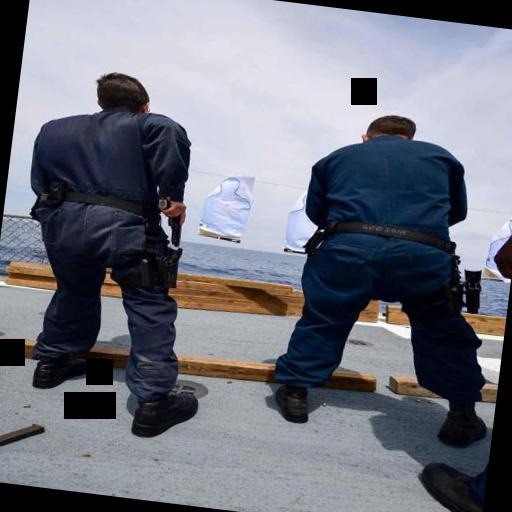Handgun: (144, 192, 190, 251)
